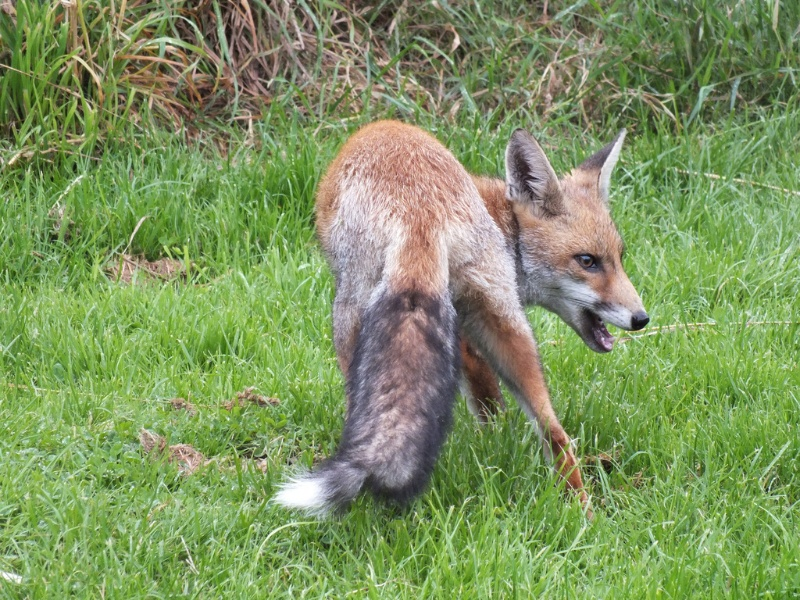fox: (270, 105, 649, 541)
